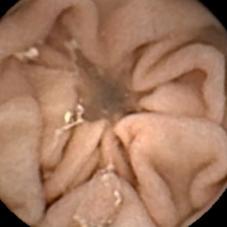Polyp: (77, 163, 123, 227)
